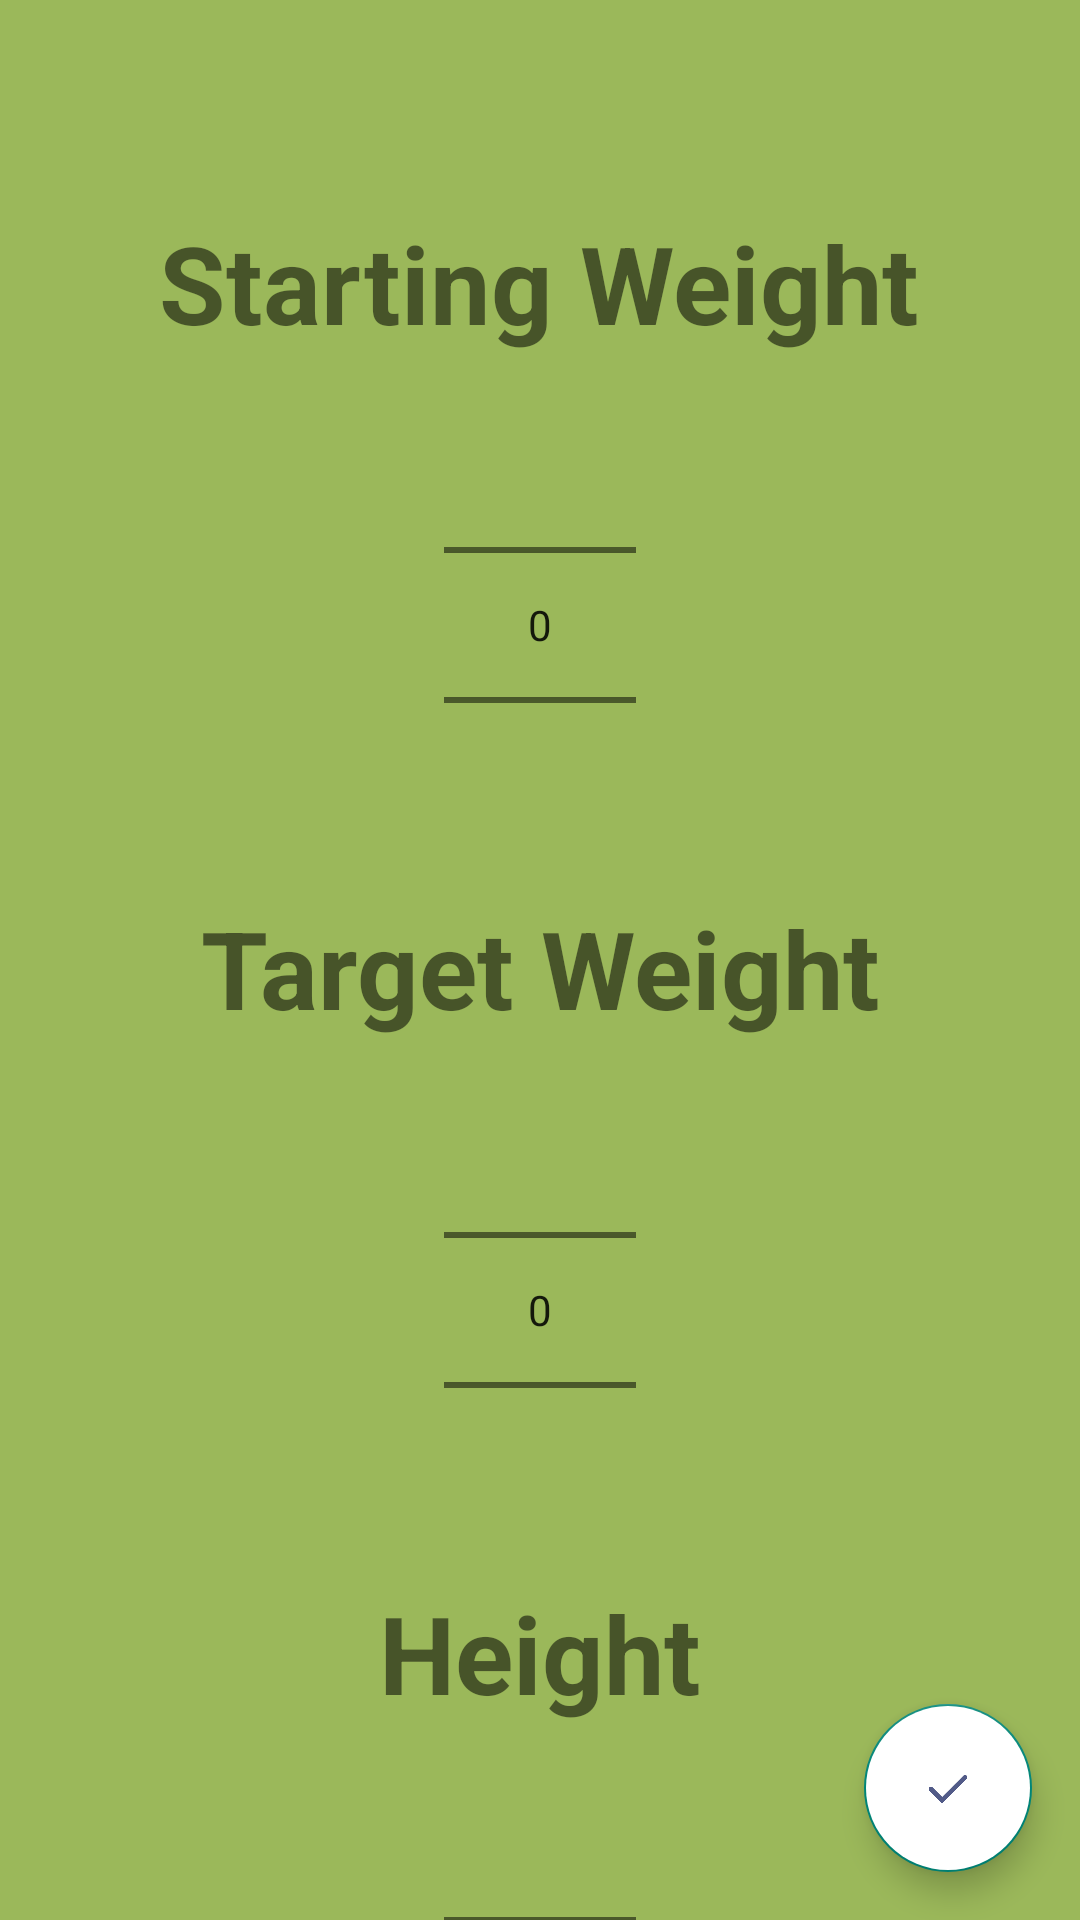

Where to tap for icons on this 1080px×1920px app screen, as (x,y):
complete: (948,1788)
